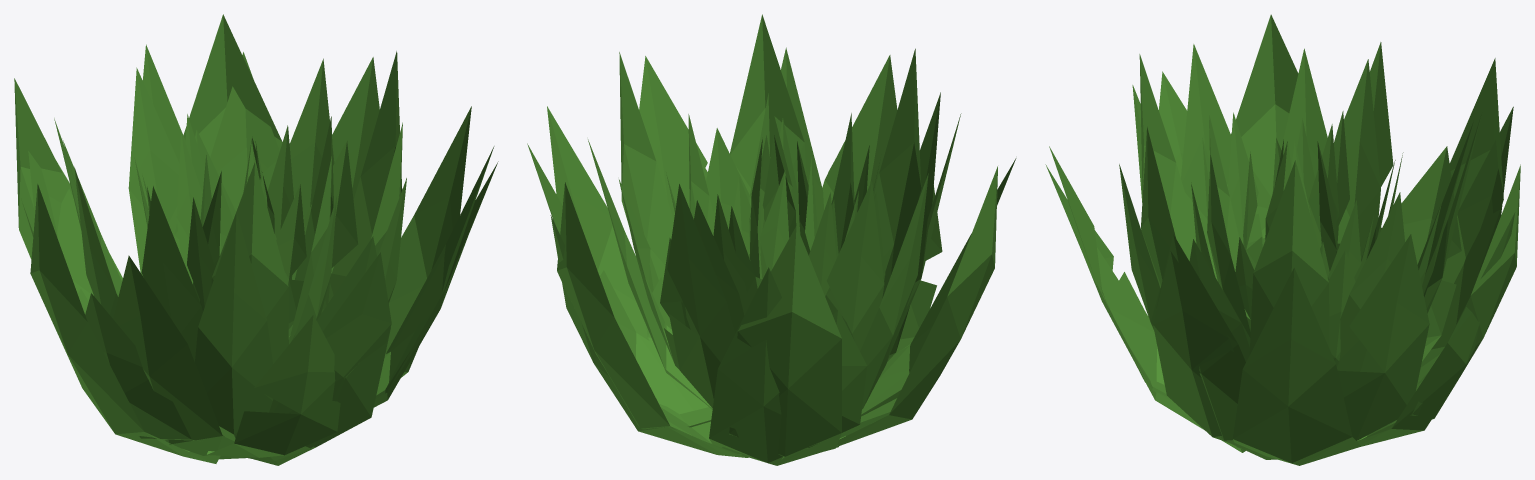
The model's file is bush.glb.
The picture shows the model from 3 angles, left to right: view 1: azimuth 30°, elevation 25°; view 2: azimuth 150°, elevation 25°; view 3: azimuth 270°, elevation 25°; orthographic projection.
Parts seen in each view (by area): view 1: plant-bush-small.001, plant-bush-small, plant-bush-small.002; view 2: plant-bush-small.002, plant-bush-small.001, plant-bush-small; view 3: plant-bush-small, plant-bush-small.002, plant-bush-small.001.
Part boxes in pixels (left/top/right/bottom): plant-bush-small.001: left=14, top=52, right=494, bottom=461; plant-bush-small: left=28, top=51, right=498, bottom=463; plant-bush-small.002: left=21, top=14, right=471, bottom=465; plant-bush-small.002: left=547, top=48, right=1016, bottom=457; plant-bush-small.001: left=550, top=14, right=940, bottom=459; plant-bush-small: left=527, top=47, right=997, bottom=465; plant-bush-small: left=1094, top=14, right=1513, bottom=442; plant-bush-small.002: left=1049, top=48, right=1520, bottom=465; plant-bush-small.001: left=1045, top=42, right=1515, bottom=459.
Bounding box in the file's own units: 3.11 × 2.38 × 2.92.
